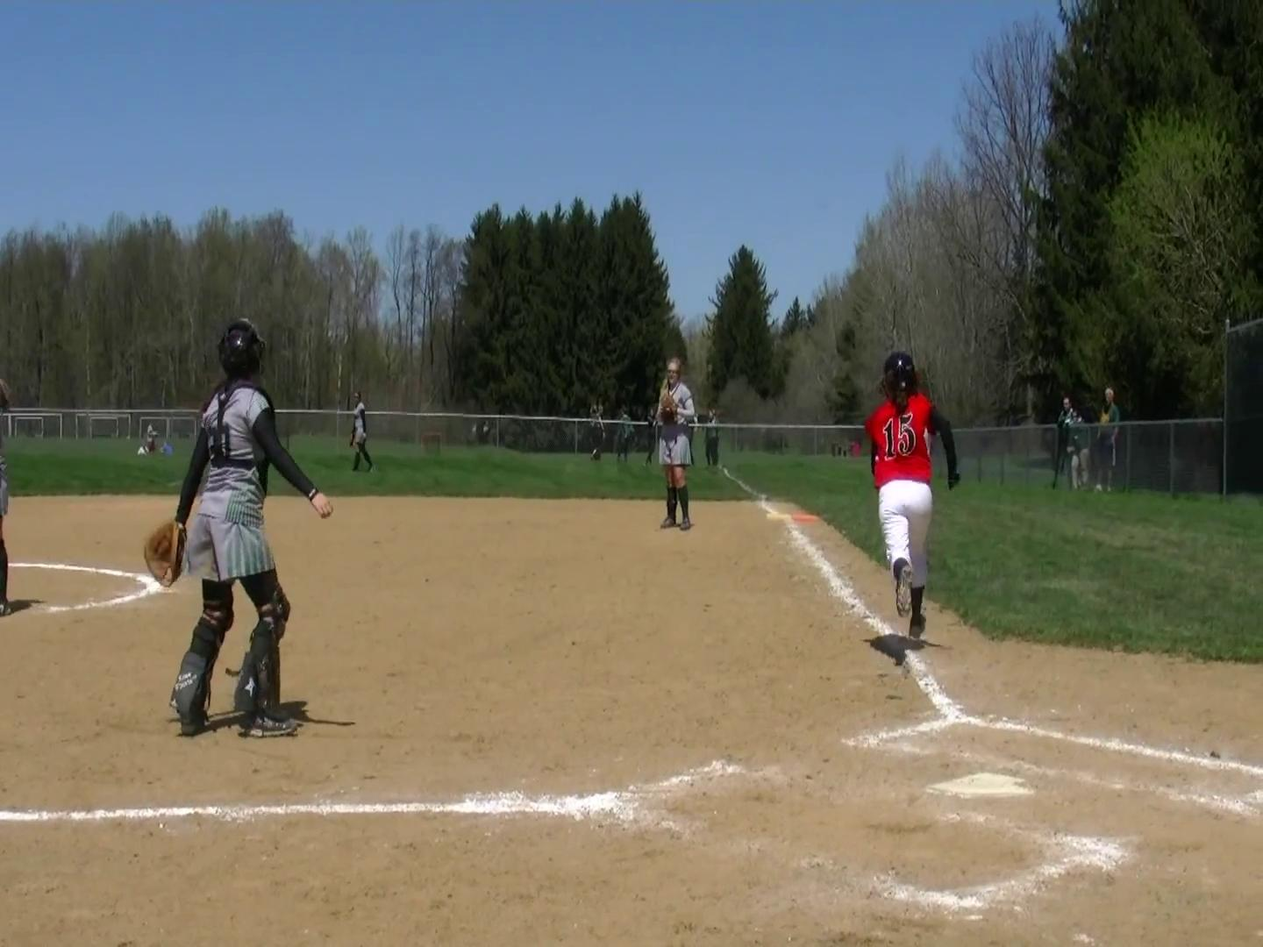victim: (136, 317, 341, 748), (866, 349, 963, 651), (651, 352, 698, 539), (340, 388, 382, 477), (1092, 388, 1122, 495), (1052, 390, 1080, 488), (581, 400, 613, 467), (1065, 410, 1092, 488), (609, 406, 635, 464), (639, 406, 663, 467), (700, 402, 719, 472)
